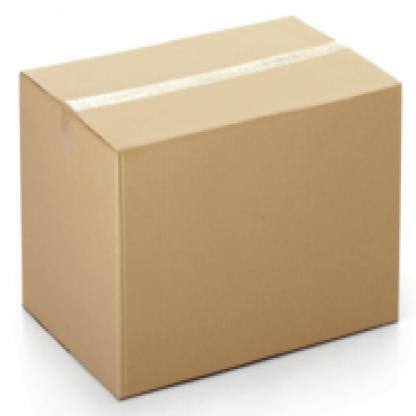box: (17, 12, 401, 400)
